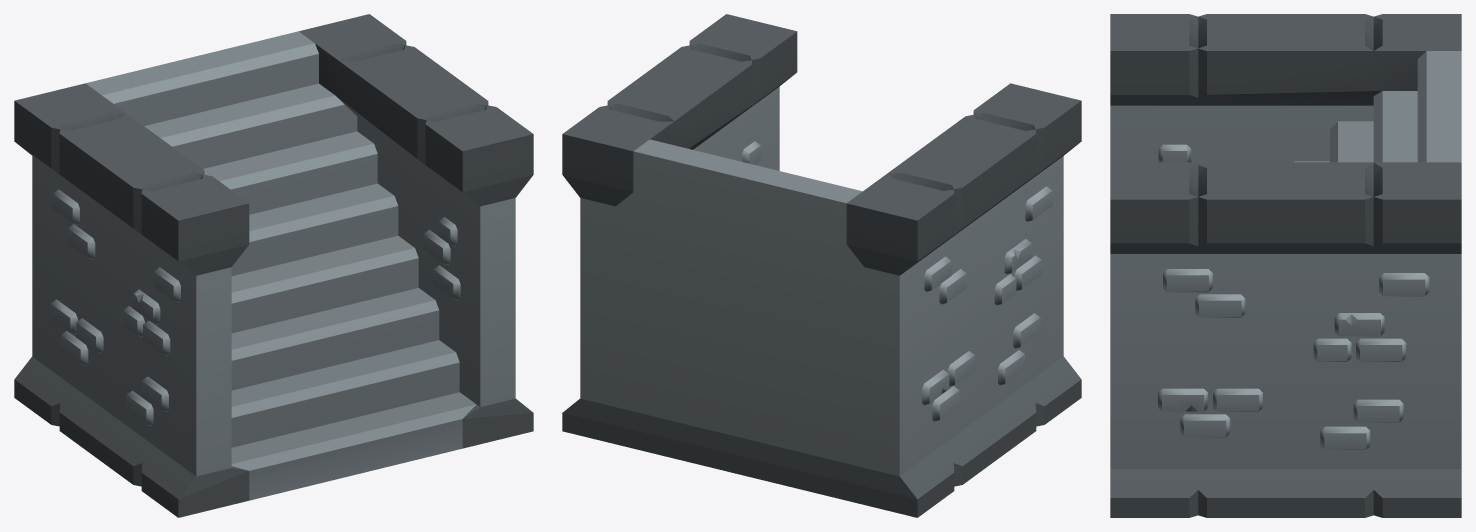
The model's file is stairs_walled.gltf.
The picture shows the model from 3 angles, left to right: view 1: azimuth 30°, elevation 25°; view 2: azimuth 150°, elevation 25°; view 3: azimuth 270°, elevation 25°; orthographic projection. The views are drawn at different scales.
Visible parts, largest first — view 1: stairs_walled; view 2: stairs_walled; view 3: stairs_walled.
Part boxes in pixels (left/top/right/bottom): stairs_walled: left=14, top=14, right=533, bottom=517; stairs_walled: left=562, top=14, right=1081, bottom=517; stairs_walled: left=1110, top=14, right=1461, bottom=517.
Bounding box in the file's own units: 5 × 4 × 4.
Materials: 1 (1 with a texture image).
